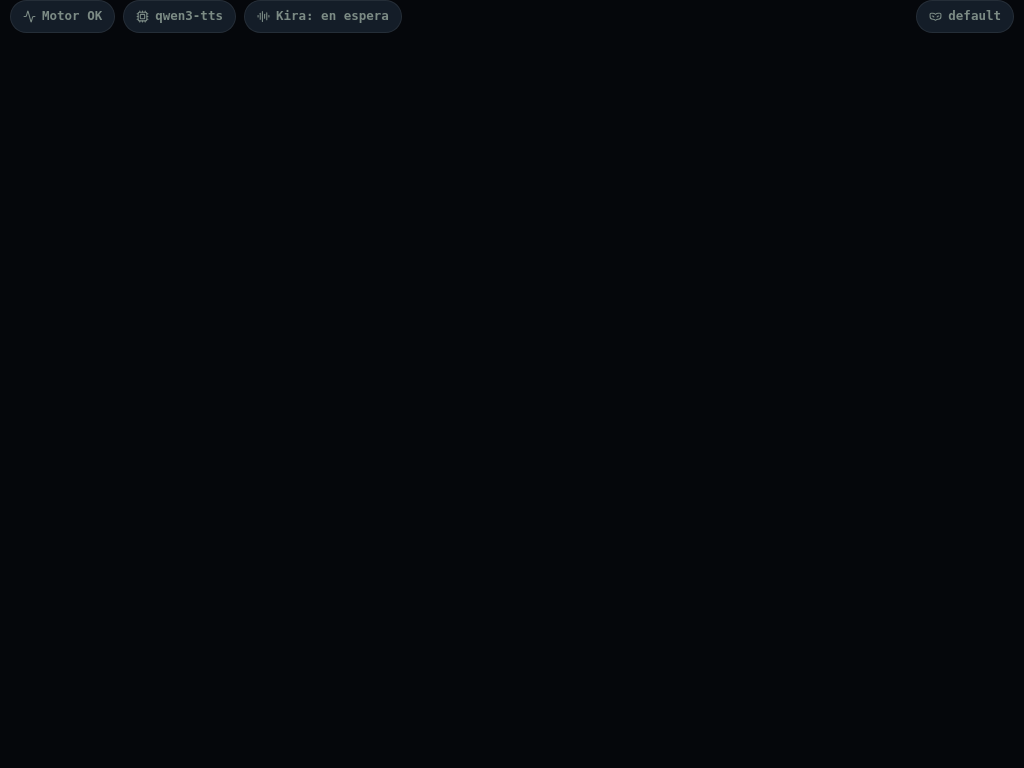
Test case: StatusRail — adjust round 2 (owner runtime feedback, 2026-07-15) › shows 'no disponible' (not '0 MB') for the VRAM row when vram_status is 'unavailable'
The image size is (1024, 768).
Click the button "Motor OK".
click(63, 16)  # box [10,0,115,33]
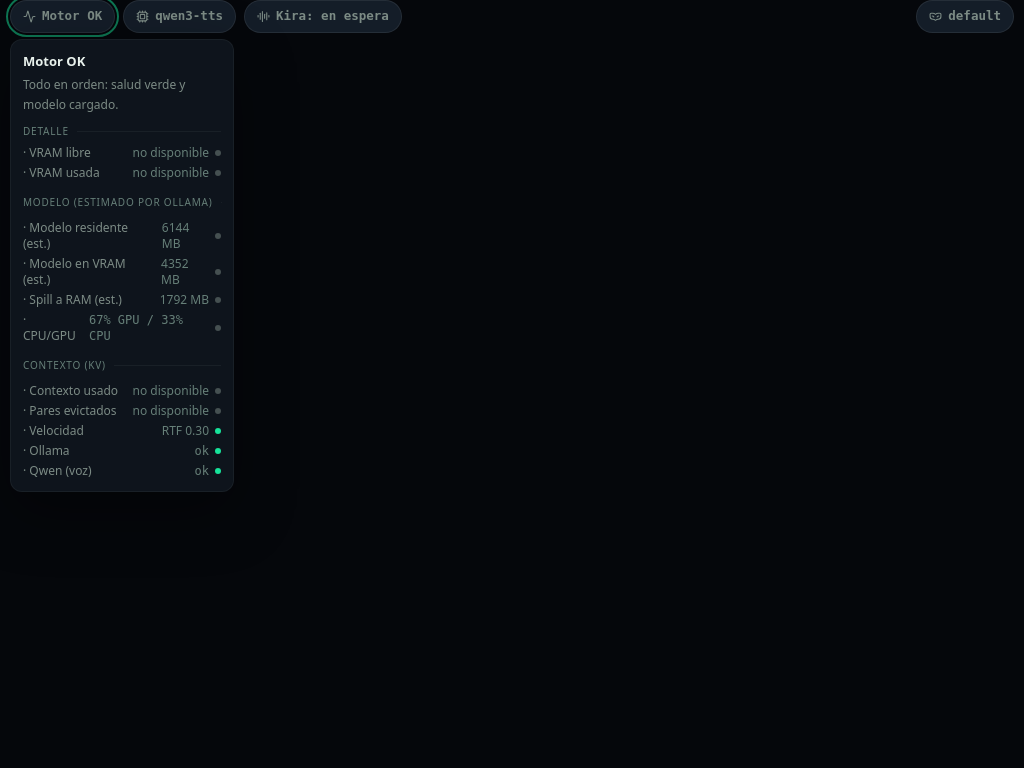
Expected: the dialog "Motor OK" does not show "0 MB", [10,39,234,492]
Result: the dialog "Motor OK" shows "no disponible" at [133,144,209,161]
